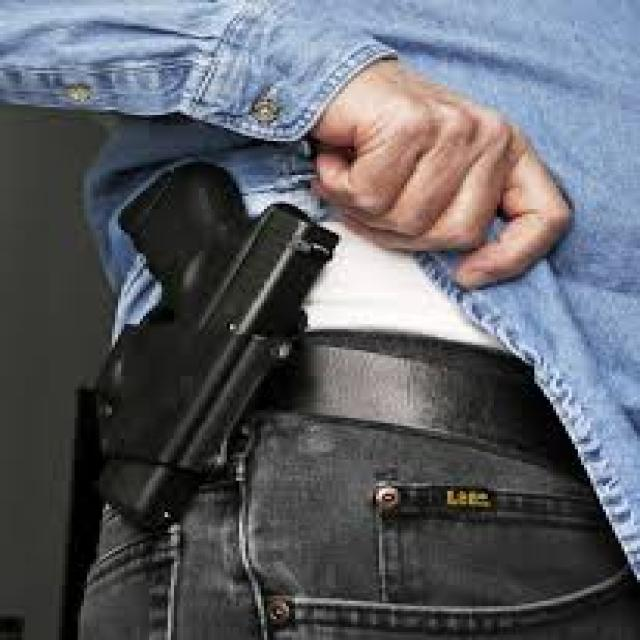gun: (53, 134, 376, 526)
